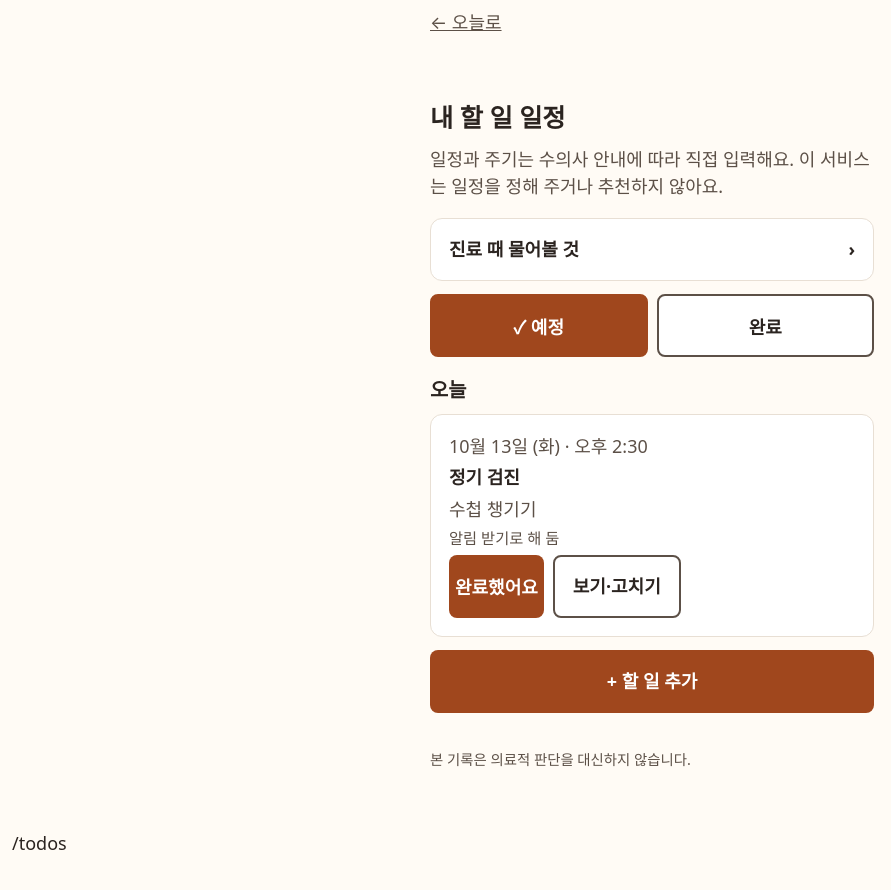
Test: 할 일 목록 — 예정 › 완료 체크 실패: 줄은 그대로고 이유와 다시 누르라는 안내가 나온다 (오프라인 포함)
What coordinates should you click on to do the following:
click the button with aria-label "완료했어요, 정기 검진"
I would click on:
 (496, 586)
Its box is left=449, top=555, right=544, bottom=618.
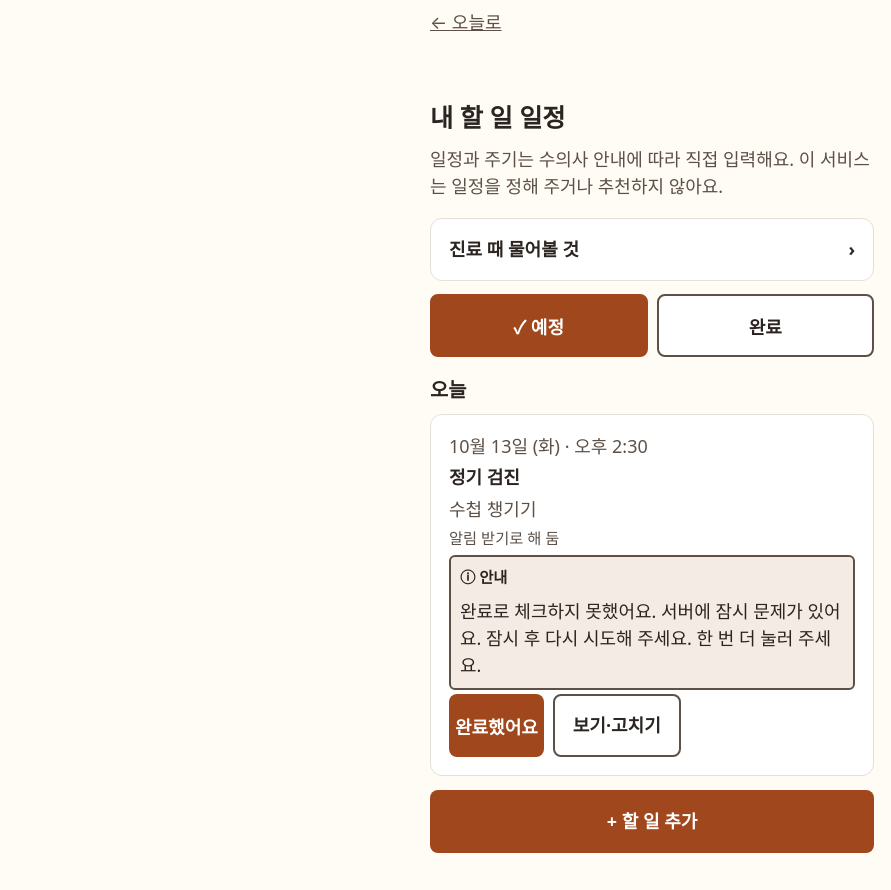
expect the message shows "완료로 체크하지 못했어요.": met, box left=460, top=599, right=841, bottom=677
expect the message shows "서버에 잠시 문제가 있어요": met, box left=460, top=599, right=841, bottom=677
expect the message shows "한 번 더 눌러 주세요": met, box left=460, top=599, right=841, bottom=677
